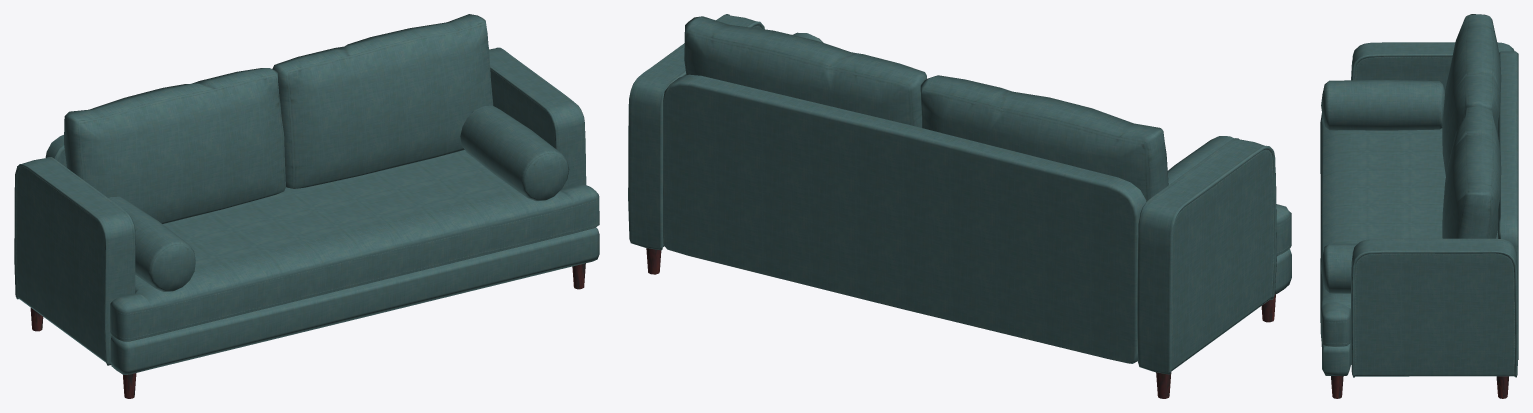
File: sofa-2.glb
3 renders of one model, left to right at view 1: azimuth 30°, elevation 25°; view 2: azimuth 150°, elevation 25°; view 3: azimuth 270°, elevation 25°, orthographic. The views are drawn at different scales.
Visible parts, largest first — view 1: sofa; view 2: sofa; view 3: sofa.
Part boxes in pixels (x1=…): sofa: x1=14, y1=14, x2=599, y2=398; sofa: x1=628, y1=14, x2=1291, y2=398; sofa: x1=1320, y1=14, x2=1518, y2=398.
Size of the model in its own units: 2.53 by 1.1 by 1.01.
Materials: 1 (1 with a texture image).
